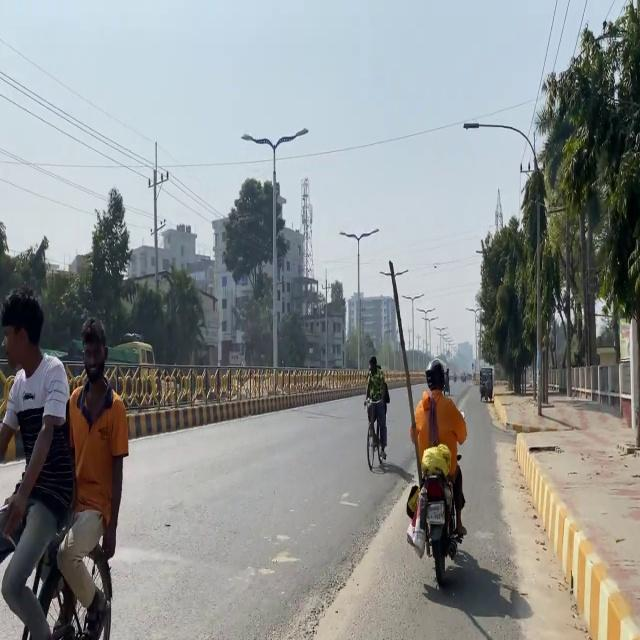Construction-barrier: (282, 472, 398, 640), (123, 380, 366, 441)
Downstairs: (478, 366, 494, 402)
Fallen-tree: (0, 492, 113, 639)
Garbage-bin: (0, 287, 76, 639), (50, 316, 129, 639), (409, 358, 467, 537), (363, 356, 390, 458)
Light-pole: (381, 260, 423, 487)
Pothole: (490, 386, 639, 635)
